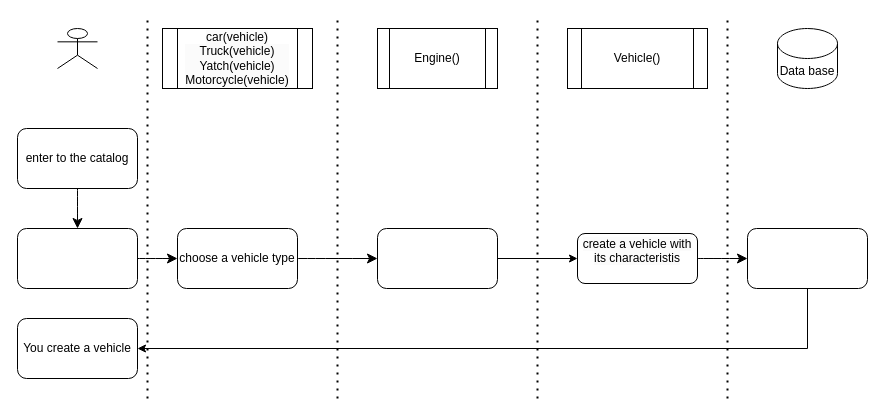
This 885x417 diagram has some shape labels left out. The shapes that lost their labels are listed below. From the top down, each one's centre as x and y in pixels, then its label:
At [77,48]: "user".
At [77,258]: "choose create a vehicle".
At [437,258]: "create a engine".
At [807,258]: "keep vehicle type".
